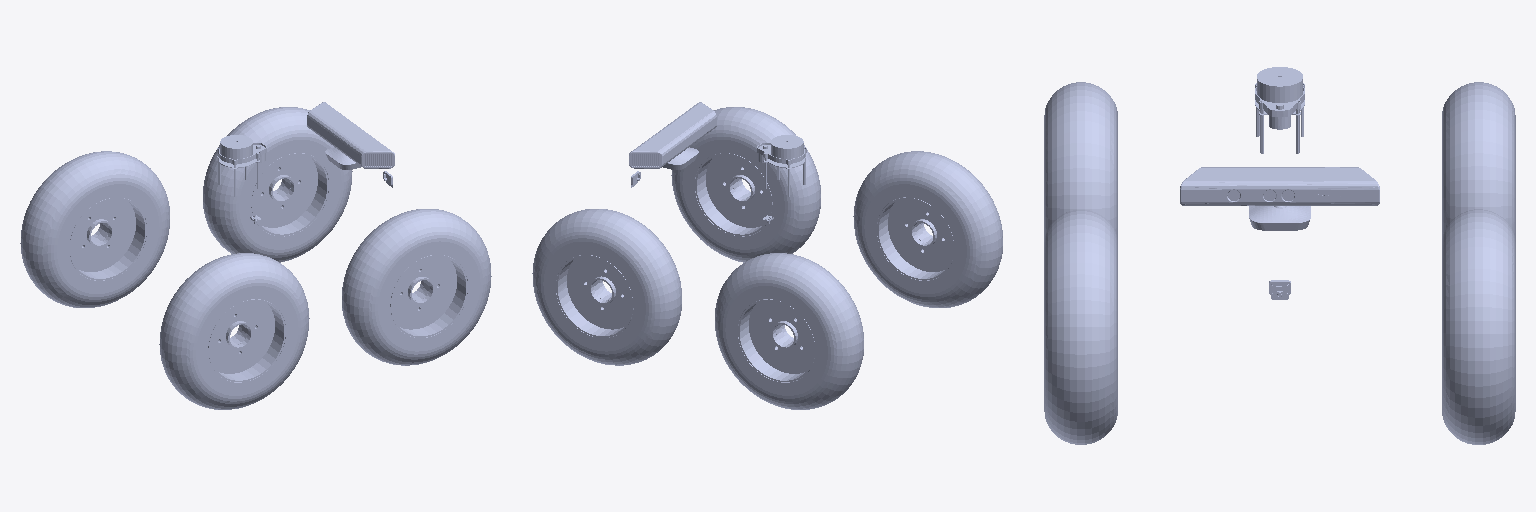
URDF robot description (ros_robot):
<?xml version="1.0" encoding="utf-8"?>
<!-- This URDF was automatically created by SolidWorks to URDF Exporter! Originally created by [author] ([email redacted]) 
     Commit Version: 1.6.0-1-g15f4949  Build Version: 1.6.7594.29634
     For more information, please see http://wiki.ros.org/sw_urdf_exporter -->
<robot name="ros_robot">

  <!-- base_link is the center of the robot's bottom plate -->
  <link name="base_link">
    <!-- base_link can't contain inertial element, because it's a parent link (Global Origin) -->
    <!--inertial>
      <origin xyz="-0.0021885 2.0281E-05 -0.027557" rpy="0 0 0" />
      <mass value="20" />
      <inertia  ixx="0.030111"  ixy="-0.0015236" ixz="6.7859E-07"
                iyy="0.050604" iyz="-7.5891E-10"
                izz="0.071292" />
    </inertial-->

    <visual>
      <origin xyz="0 0 0" rpy="0 0 0" />
      <geometry>
        <mesh filename="package://ros_robot/meshes/base_link.STL" />
      </geometry>
      <material name="">
        <color rgba="0.79216 0.81961 0.93333 1" />
      </material>
    </visual>

    <collision> <origin xyz="0 0 0"  rpy="0 0 0" />
      <geometry>
        <mesh filename="package://ros_robot/meshes/base_link.STL" />
      </geometry>
    </collision>
  </link>
  
  <!-- base_footprint is on the ground under the robot -->
  <link name="base_footprint"/>

  <joint name="base_footprint_joint" type="fixed">
    <origin xyz="0 0 -0.254" rpy="0 0 0" />
    <parent link="base_link" />
    <child link="base_footprint" />
  </joint>
  
  <!-- inertial_link stores the robot's inertial information -->
  <link name="inertial_link">
    <inertial>
      <origin xyz="-0.0021885 2.0281E-05 -0.027557" rpy="0 0 0" />
      <mass value="20" />
      <inertia  ixx="0.030111"  ixy="-0.0015236" ixz="6.7859E-07"
                iyy="0.050604" iyz="-7.5891E-10"
                izz="0.071292" />
    </inertial>
  </link>

  <joint name="inertial_joint" type="fixed">
    <origin xyz="0 0 0" rpy="0 0 0" />
    <parent link="base_link" />
    <child link="inertial_link" />
  </joint>

  <!-- right_front_wheel -->
  <link name="right_front_wheel">
    <inertial>
      <origin  xyz="-2.498E-16 -0.05125 6.9389E-17" rpy="0 0 0" />
      <mass value="3" />
      <inertia ixx="0.047709" ixy="9.1909E-18" ixz="-1.4307E-19"
               iyy="0.087893" iyz="-4.6646E-18"
               izz="0.047709" />
    </inertial>

    <visual>
      <origin xyz="0 0 0" rpy="0 0 0" />
      <geometry>
        <mesh filename="package://ros_robot/meshes/right_front_wheel.STL" />
      </geometry>
      <material name="">
        <color rgba="0.79216 0.81961 0.93333 1" />
      </material>
    </visual>

    <collision>
      <origin xyz="0 0 0" rpy="0 0 0" />
      <geometry>
        <mesh filename="package://ros_robot/meshes/right_front_wheel.STL" />
      </geometry>
    </collision>
  </link>
  
  <joint name="right_front_wheel_joint" type="continuous">
    <origin xyz="0.21 -0.2265 -0.089008" rpy="0 0 0" />
    <parent link="base_link" />
    <child link="right_front_wheel" />
    <axis xyz="0 1 0" />
  </joint>
  
  <!-- left_front_wheel -->
  <link
    name="left_front_wheel">
    <inertial>
      <origin xyz="8.3267E-17 0.05125 1.5266E-16" rpy="0 0 0" />
      <mass value="3" />
      <inertia ixx="0.047709" ixy="-3.9925E-20" ixz="7.7645E-19"
               iyy="0.087893" iyz="-1.6815E-17"
               izz="0.047709" />
    </inertial>

    <visual>
      <origin xyz="0 0 0" rpy="0 0 0" />
      <geometry>
        <mesh filename="package://ros_robot/meshes/left_front_wheel.STL" />
      </geometry>
      <material name="">
        <color rgba="0.79216 0.81961 0.93333 1" />
      </material>
    </visual>

    <collision>
      <origin xyz="0 0 0" rpy="0 0 0" />
      <geometry>
        <mesh filename="package://ros_robot/meshes/left_front_wheel.STL" />
      </geometry>
    </collision>
  </link>

  <joint name="left_front_wheel_joint" type="continuous">
    <origin xyz="0.21 0.2265 -0.089008" rpy="0 0 0" />
    <parent link="base_link" />
    <child link="left_front_wheel" />
    <axis xyz="0 1 0" />
  </joint>

  <!-- right_rear_wheel -->
  <link name="right_rear_wheel">
    <inertial>
      <origin xyz="0 -0.05125 5.5511E-17" rpy="0 0 0" />
      <mass value="3" />
      <inertia ixx="0.047709" ixy="6.9064E-18" ixz="4.2983E-19"
               iyy="0.087893" iyz="-4.4799E-18"
               izz="0.047709" />
    </inertial>

    <visual>
      <origin xyz="0 0 0" rpy="0 0 0" />
      <geometry>
        <mesh filename="package://ros_robot/meshes/right_rear_wheel.STL" />
      </geometry>
      <material name="">
        <color rgba="0.79216 0.81961 0.93333 1" />
      </material>
    </visual>

    <collision>
      <origin xyz="0 0 0" rpy="0 0 0" />
      <geometry>
        <mesh filename="package://ros_robot/meshes/right_rear_wheel.STL" />
      </geometry>
    </collision>
  </link>

  <joint name="right_rear_wheel_joint" type="continuous">
    <origin xyz="-0.21 -0.2265 -0.089" rpy="0 0 0" />
    <parent link="base_link" />
    <child link="right_rear_wheel" />
    <axis xyz="0 1 0" />
  </joint>

  <!-- left_rear_wheel -->
  <link name="left_rear_wheel">
    <inertial>
      <origin xyz="8.3267E-17 0.05125 -2.7756E-17" rpy="0 0 0" />
      <mass value="3" />
      <inertia ixx="0.047709" ixy="6.6234E-18" ixz="-4.9623E-18"
               iyy="0.087893" iyz="-7.8363E-18"
               izz="0.047709" />
    </inertial>

    <visual>
      <origin xyz="0 0 0" rpy="0 0 0" />
      <geometry>
        <mesh filename="package://ros_robot/meshes/left_rear_wheel.STL" />
      </geometry>
      <material name="">
        <color rgba="0.79216 0.81961 0.93333 1" />
      </material>
    </visual>

    <collision>
      <origin xyz="0 0 0" rpy="0 0 0" />
      <geometry>
        <mesh filename="package://ros_robot/meshes/left_rear_wheel.STL" />
      </geometry>
    </collision>
  </link>

  <joint name="left_rear_wheel_joint" type="continuous">
    <origin xyz="-0.21 0.2265 -0.089" rpy="0 0 0" />
    <parent link="base_link" />
    <child link="left_rear_wheel" />
    <axis xyz="0 1 0" />
  </joint>

  <!-- imu_link -->
  <link name="imu_link">
    <inertial>
      <origin xyz="-0.0016551 0.00010771 -0.0010195" rpy="0 0 0" />
      <mass value="0.00052939" />
      <inertia ixx="1.3329E-08" ixy="5.7265E-12" ixz="-6.2461E-14"
               iyy="7.5622E-09" iyz="3.368E-18"
               izz="1.9976E-08" />
    </inertial>

    <visual>
      <origin xyz="0 0 0" rpy="0 0 0" />
      <geometry>
        <mesh filename="package://ros_robot/meshes/imu_link.STL" />
      </geometry>
      <material name="">
        <color rgba="0.79216 0.81961 0.93333 1" />
      </material>
    </visual>

    <collision>
      <origin xyz="0 0 0" rpy="0 0 0" />
      <geometry>
        <mesh filename="package://ros_robot/meshes/imu_link.STL" />
      </geometry>
    </collision>
  </link>

  <joint name="imu_joint" type="fixed">
    <origin xyz="0 0 0" rpy="0 0 0" />
    <parent link="base_link" />
    <child link="imu_link" />
    <axis xyz="0 0 0" />
  </joint>

  <!-- lidar_link -->
  <link name="lidar_link">
    <inertial>
      <origin xyz="0.0082697 1.4922E-15 -0.0094513" rpy="0 0 0" />
      <mass value="0.1489" />
      <inertia ixx="7.2162E-05" ixy="-3.5845E-19" ixz="1.8621E-05"
               iyy="0.00011961" iyz="1.3141E-19"
               izz="0.00012931" />
    </inertial>

    <visual>
      <origin xyz="0 0 0" rpy="0 0 0" />
      <geometry>
        <mesh filename="package://ros_robot/meshes/lidar_link.STL" />
      </geometry>
      <material name="">
        <color rgba="0.79216 0.81961 0.93333 1" />
      </material>
    </visual>

    <collision>
      <origin xyz="0 0 0" rpy="0 0 0" />
      <geometry>
        <mesh filename="package://ros_robot/meshes/lidar_link.STL" />
      </geometry>
    </collision>
  </link>

  <joint name="lidar_joint" type="fixed">
    <origin xyz="-0.0445 0 0.16575" rpy="0 0 0" />
    <parent link="base_link" />
    <child link="lidar_link" />
    <axis xyz="0 0 0" />
  </joint>

  <!-- kinect_link -->
  <link name="kinect_link">
    <inertial>
      <origin xyz="0.0012646 4.542E-05 -0.0064888" rpy="0 0 0" />
      <mass value="0.65666" />
      <inertia ixx="0.0029859" ixy="-9.3802E-07" ixz="9.6554E-08"
               iyy="0.00026948" iyz="1.3766E-08"
               izz="0.0031116" />
    </inertial>

    <visual>
      <origin xyz="0 0 0" rpy="0 0 0" />
      <geometry>
        <mesh filename="package://ros_robot/meshes/kinect_link.STL" />
      </geometry>
      <material name="">
        <color rgba="0.79216 0.81961 0.93333 1" />
      </material>
    </visual>

    <collision>
      <origin xyz="0 0 0" rpy="0 0 0" />
      <geometry>
        <mesh filename="package://ros_robot/meshes/kinect_link.STL" />
      </geometry>
    </collision>
  </link>

  <joint name="kinect_joint" type="fixed">
    <origin xyz="0.21125 0 0.12827" rpy="0 0 0" />
    <parent link="base_link" />
    <child link="kinect_link" />
    <axis xyz="0 0 0" />
  </joint>

  <!-- camera_link -->
  <link name="camera_link">
    <inertial>
      <origin xyz="-0.0049973 -2.7081E-05 0.0066457" rpy="0 0 0" />
      <mass value="0.0020855" />
      <inertia ixx="2.7457E-07" ixy="3.1734E-11" ixz="1.0398E-09"
               iyy="8.7372E-08" iyz="4.2706E-10"
               izz="1.9627E-07" />
    </inertial>

    <visual>
      <origin xyz="0 0 0" rpy="0 0 0" />
      <geometry>
        <mesh filename="package://ros_robot/meshes/camera_link.STL" />
      </geometry>
      <material name="">
        <color rgba="0.79216 0.81961 0.93333 1" />
      </material>
    </visual>

    <collision>
      <origin xyz="0 0 0" rpy="0 0 0" />
      <geometry>
        <mesh
          filename="package://ros_robot/meshes/camera_link.STL" />
      </geometry>
    </collision>
  </link>

  <joint name="camera_joint" type="fixed">
    <origin xyz="0.3121 0 0.00895" rpy="0 0 0" />
    <parent link="base_link" />
    <child link="camera_link" />
    <axis xyz="0 0 0" />
  </joint>
  
</robot>

--- Render facts (derived) ---
The picture shows the robot from 3 angles, left to right: view 1: azimuth 30°, elevation 25°; view 2: azimuth 150°, elevation 25°; view 3: azimuth 270°, elevation 25°; orthographic projection.
Robot: ros_robot — 11 links, 10 joints (4 continuous, 6 fixed); root link base_link; default pose: all joints at 0.
Links seen in each view (by area): view 1: right_rear_wheel, right_front_wheel, left_rear_wheel, left_front_wheel, kinect_link, lidar_link; view 2: left_rear_wheel, right_rear_wheel, left_front_wheel, right_front_wheel, kinect_link, lidar_link; view 3: left_front_wheel, right_front_wheel, right_rear_wheel, left_rear_wheel, kinect_link, lidar_link.
Link boxes in pixels (box(x1,y1,x2,y2)): right_rear_wheel: box(159, 253, 309, 409); right_front_wheel: box(342, 209, 491, 365); left_rear_wheel: box(20, 151, 169, 307); left_front_wheel: box(203, 107, 352, 262); kinect_link: box(307, 102, 394, 169); lidar_link: box(217, 135, 266, 196); left_rear_wheel: box(715, 253, 863, 409); right_rear_wheel: box(853, 151, 1002, 307); left_front_wheel: box(532, 209, 681, 365); right_front_wheel: box(671, 107, 820, 262); kinect_link: box(629, 102, 716, 169); lidar_link: box(757, 135, 806, 196); left_front_wheel: box(1442, 209, 1515, 444); right_front_wheel: box(1044, 210, 1117, 444); right_rear_wheel: box(1044, 82, 1117, 241); left_rear_wheel: box(1442, 82, 1515, 241); kinect_link: box(1180, 167, 1379, 230); lidar_link: box(1255, 67, 1304, 153).
Size in the robot's own frame: 0.7494 by 0.658 by 0.4322 metres.
Meshes: 9 distinct files referenced, 8 mesh visuals loaded (8 binary STL); not drawn: 1 (reference not matched to a file when rendering).